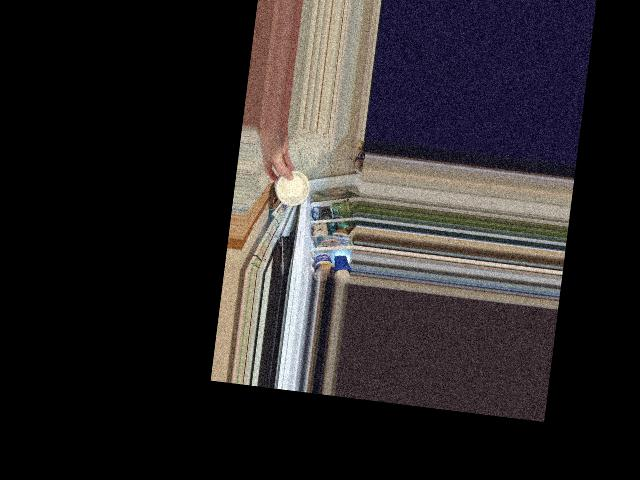cotage: (270, 167, 309, 205)
